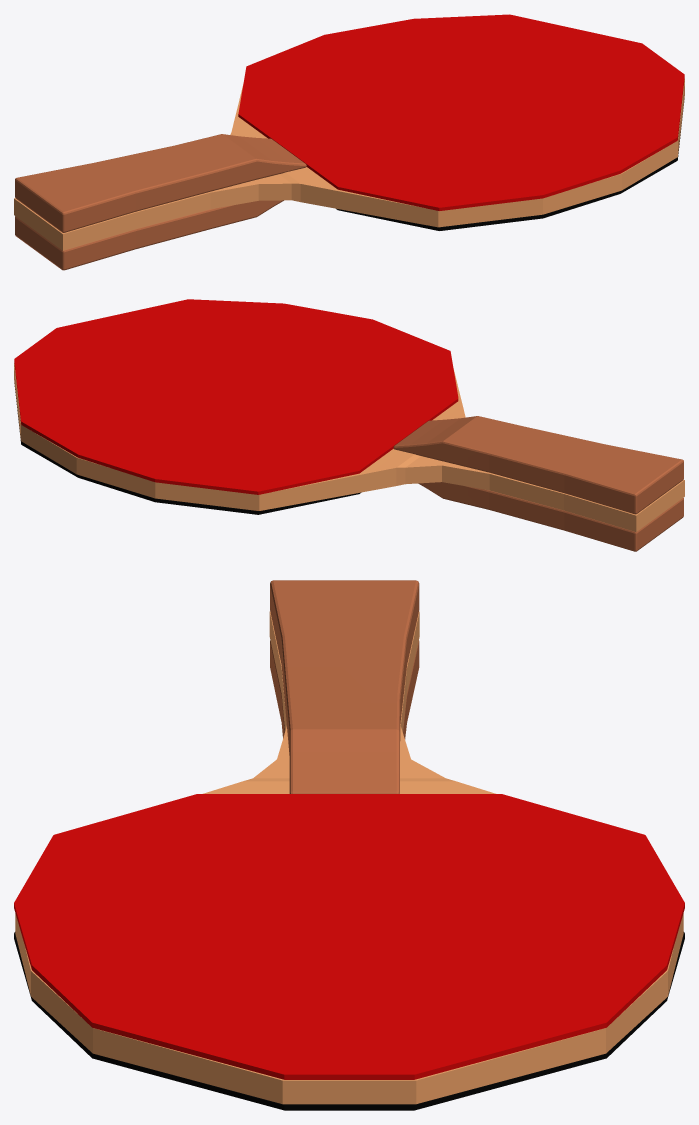
Rendered from racket.fbx.
The picture shows the model from 3 angles, top to bottom: view 1: azimuth 30°, elevation 25°; view 2: azimuth 150°, elevation 25°; view 3: azimuth 270°, elevation 25°; orthographic projection. The views are drawn at different scales.
Visible parts, largest first — view 1: pad_rubber, pad_handles, pad_base; view 2: pad_rubber, pad_handles, pad_base; view 3: pad_rubber, pad_handles, pad_base.
Part boxes in pixels (x1,y1,x2,y2): pad_rubber: (238, 14, 684, 230); pad_handles: (15, 134, 306, 270); pad_base: (14, 79, 684, 250); pad_rubber: (14, 299, 458, 514); pad_handles: (393, 416, 683, 551); pad_base: (14, 363, 684, 531); pad_rubber: (14, 794, 684, 1110); pad_handles: (270, 580, 419, 793); pad_base: (15, 611, 683, 1104).
Bounding box in the file's own units: 26.4 × 2.36 × 15.98.
